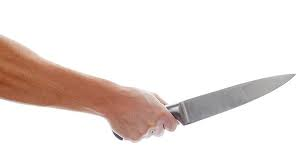weapon-unusual: (92, 71, 301, 142)
